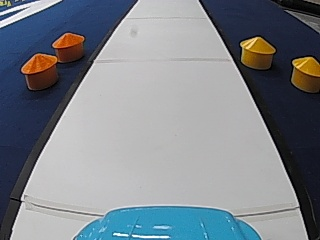granary: (19, 50, 57, 90), (238, 33, 276, 69), (288, 54, 320, 91), (50, 29, 85, 61)
